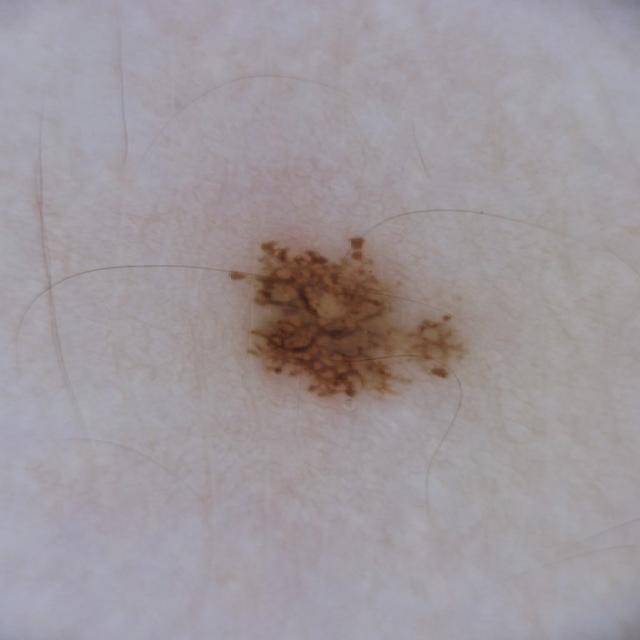Skin-Cancer Nevus: (32, 35, 640, 560)
